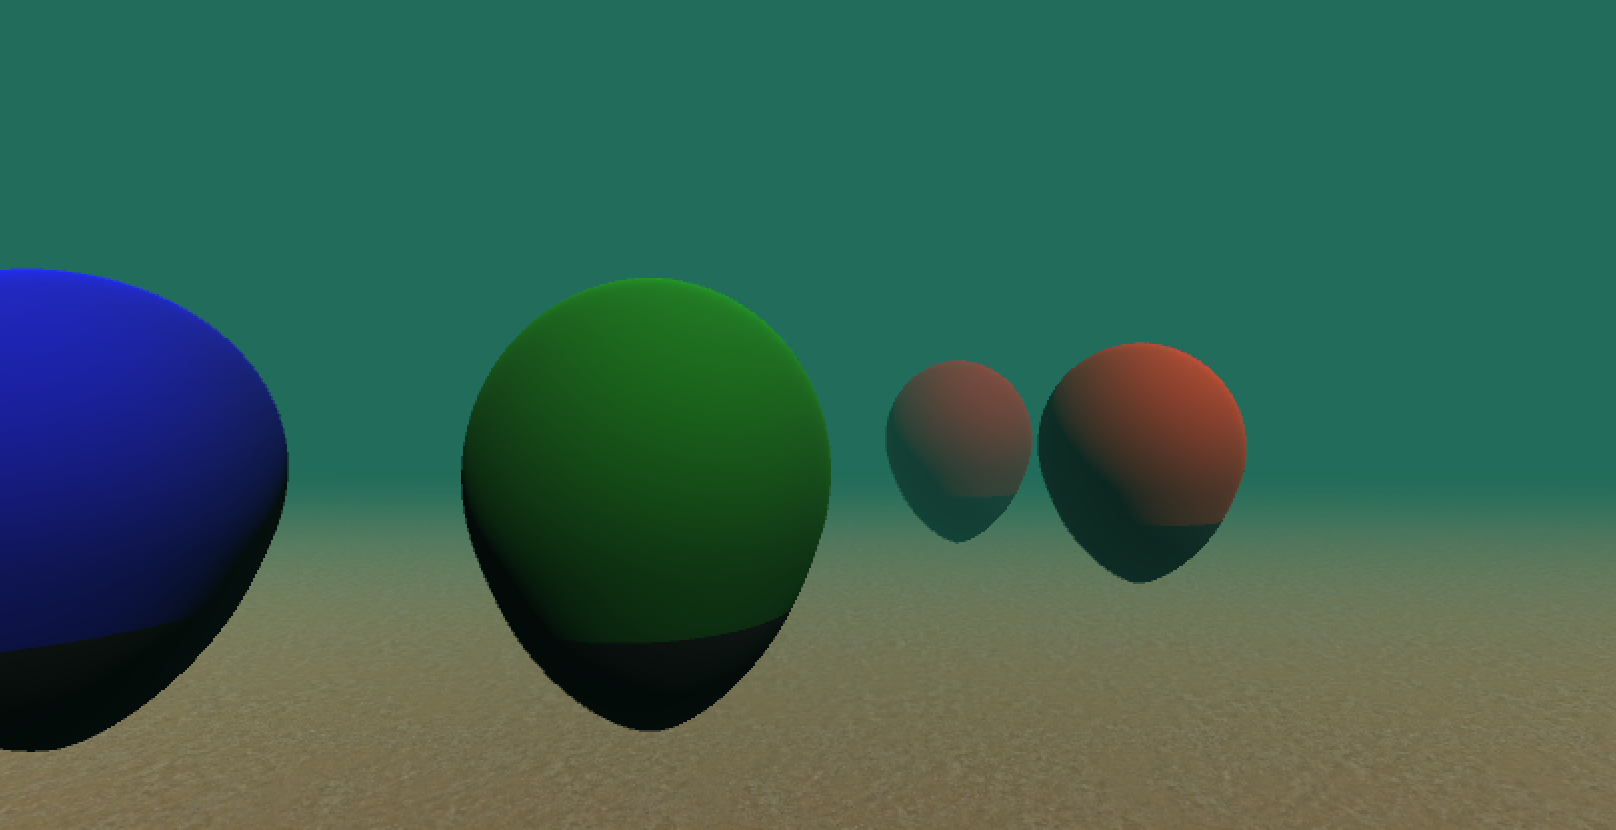blue buoy: (1, 261, 294, 755)
green buoy: (453, 273, 839, 738)
red buoy: (1039, 340, 1251, 588), (882, 359, 1038, 547)
